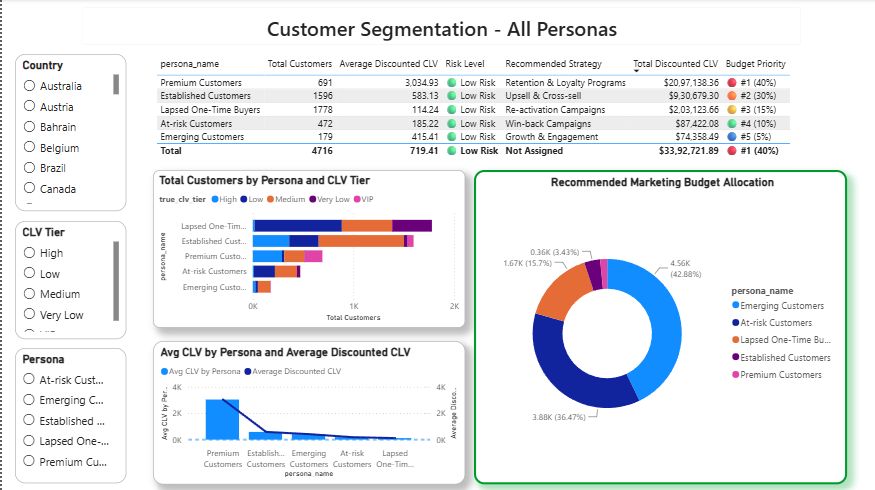

This screenshot's page, from the dashboard's own definition file:
{"tool":"powerbi","page":{"name":"Customer Segmentation","canvas":[1280,720],"ordinal":1},"visuals":[{"type":"barChart","title":"Total Customers by Persona and CLV Tier","fields":{"Category":["powerbi fact_customers.persona_name"],"Y":["powerbi fact_customers.Total Customers"],"Series":["powerbi fact_customers.true_clv_tier"]},"box":[220.7,250,456.9,231],"z":0},{"type":"lineStackedColumnComboChart","title":"Avg CLV by Persona and Average Discounted CLV","fields":{"Category":["powerbi fact_customers.persona_name"],"Y":["powerbi fact_customers.Avg CLV by Persona"],"Y2":["powerbi fact_customers.Average Discounted CLV"]},"box":[220.7,500,456.9,210.3],"z":1000},{"type":"donutChart","title":"Recommended Marketing Budget Allocation","fields":{"Category":["powerbi fact_customers.persona_name"],"Y":["Measures (2).Recommended Budget %"]},"box":[690.7,250.2,545.9,459.5],"z":2000},{"type":"tableEx","fields":{"Values":["powerbi fact_customers.persona_name","powerbi fact_customers.Total Customers","powerbi fact_customers.Average Discounted CLV","Measures (2).Risk Level","Measures (2).Recommended Strategy","powerbi fact_customers.Total Discounted CLV","Measures (2).Budget Priority"]},"box":[220.7,79.3,941.4,163.8],"z":3000},{"type":"listSlicer","title":"Country","fields":{"Values":["powerbi fact_customers.country"]},"box":[18.3,80,163.3,230],"z":4000},{"type":"listSlicer","title":"CLV Tier","fields":{"Values":["powerbi fact_customers.true_clv_tier"]},"box":[18.3,325,163.3,173.3],"z":5000},{"type":"listSlicer","title":"Persona","fields":{"Values":["powerbi fact_customers.persona_name"]},"box":[18.3,510,163.3,198.3],"z":6000},{"type":"cardVisual","fields":{"Data":["Measures (2).Customer Segmentation Title"]},"box":[100,0,1087.9,79.3],"z":7000}]}

Visuals, with their boxes in screenshot pixels (x1, y1, x2, y2), scaled from the page's 1280x720 canvas onto the 875x490 screenshot:
"Total Customers by Persona and CLV Tier" barChart: left=151, top=170, right=463, bottom=327
"Avg CLV by Persona and Average Discounted CLV" lineStackedColumnComboChart: left=151, top=340, right=463, bottom=483
"Recommended Marketing Budget Allocation" donutChart: left=472, top=170, right=845, bottom=483
tableEx - powerbi fact_customers.persona_name x powerbi fact_customers.Total Customers: left=151, top=54, right=794, bottom=165
"Country" listSlicer: left=13, top=54, right=124, bottom=211
"CLV Tier" listSlicer: left=13, top=221, right=124, bottom=339
"Persona" listSlicer: left=13, top=347, right=124, bottom=482
cardVisual - Measures (2).Customer Segmentation Title: left=68, top=0, right=812, bottom=54
